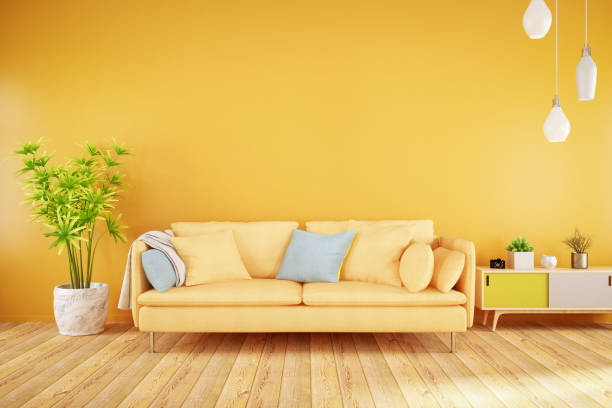large plant: (15, 132, 134, 338)
small plant: (504, 235, 537, 271), (566, 227, 593, 270)
sofa: (129, 218, 481, 353)
